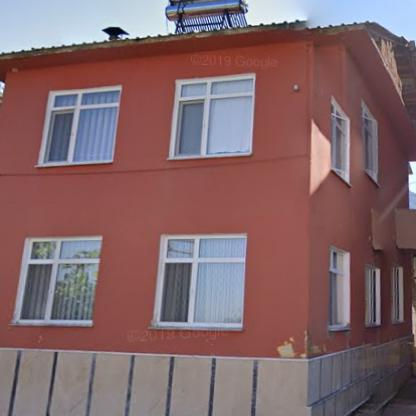window: (156, 236, 247, 325), (18, 238, 101, 321), (173, 77, 254, 155), (43, 88, 120, 163), (332, 102, 348, 178), (330, 249, 343, 324), (363, 107, 375, 178), (366, 267, 376, 322), (394, 267, 401, 320)
